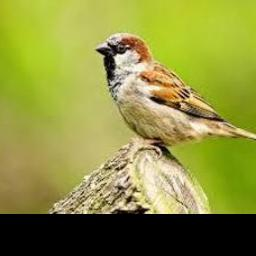Sparrow: (94, 32, 256, 158)
